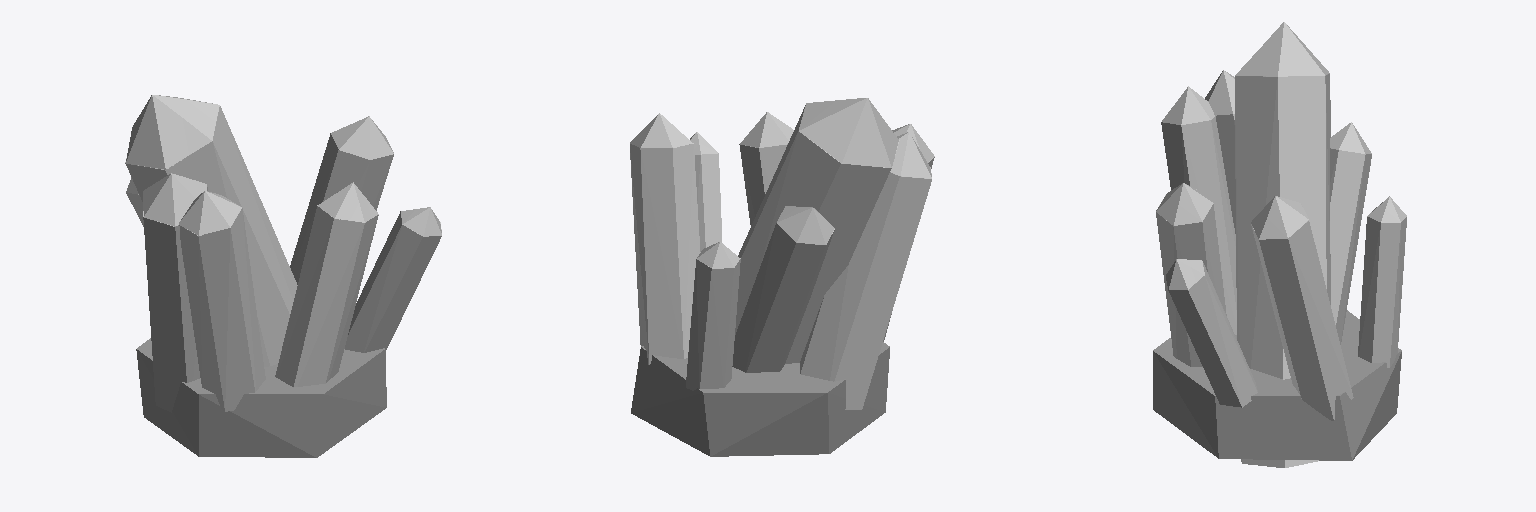
File: solis_crystals1.obj
The picture shows the model from 3 angles: view 1: azimuth 30°, elevation 25°; view 2: azimuth 150°, elevation 25°; view 3: azimuth 270°, elevation 25°; orthographic projection.
Parts seen in each view (by area): view 1: Cylinder.029_Cylinder.030, Cylinder.002_Cylinder.005, Cylinder.027_Cylinder.028, Cylinder.006_Cylinder.000, Cylinder.003_Cylinder.006, Cylinder.005_Cylinder.008, Cone.007_Cone.000, Cylinder.001_Cylinder.004, Cone.004_Cone.006, Cone.003_Cone.005, Cone.002_Cone.004, Cone.001 (+1 smaller); view 2: Cylinder.029_Cylinder.030, Cylinder.003_Cylinder.006, Cylinder.001_Cylinder.004, Cylinder.006_Cylinder.000, Cylinder.004_Cylinder.007, Cylinder.000_Cylinder.003, Cone.007_Cone.000, Cylinder.005_Cylinder.008, Cylinder.027_Cylinder.028, Cone.005_Cone.007, Cone.002_Cone.004, Cone.004_Cone.006 (+2 smaller); view 3: Cylinder.006_Cylinder.000, Cylinder.029_Cylinder.030, Cylinder.001_Cylinder.004, Cylinder.002_Cylinder.005, Cylinder.000_Cylinder.003, Cylinder.005_Cylinder.008, Cylinder.004_Cylinder.007, Cylinder.027_Cylinder.028, Cone.007_Cone.000, Cone.002_Cone.004, Cone.001, Cylinder.003_Cylinder.006 (+5 smaller).
Part boxes in pixels (x1,y1,x2,y2): Cylinder.029_Cylinder.030: (136, 338, 386, 457); Cylinder.002_Cylinder.005: (179, 208, 265, 411); Cylinder.027_Cylinder.028: (275, 205, 378, 387); Cylinder.006_Cylinder.000: (125, 106, 297, 366); Cylinder.003_Cylinder.006: (143, 187, 207, 412); Cylinder.005_Cylinder.008: (345, 211, 441, 352); Cone.007_Cone.000: (126, 95, 219, 169); Cylinder.001_Cylinder.004: (290, 133, 393, 284); Cone.004_Cone.006: (143, 173, 206, 226); Cone.003_Cone.005: (179, 191, 241, 235); Cone.002_Cone.004: (331, 116, 393, 159); Cone.001: (318, 182, 378, 222); Cylinder.029_Cylinder.030: (631, 342, 889, 456); Cylinder.003_Cylinder.006: (800, 167, 931, 409); Cylinder.001_Cylinder.004: (630, 144, 700, 364); Cylinder.006_Cylinder.000: (735, 105, 899, 363); Cylinder.004_Cylinder.007: (732, 223, 834, 372); Cylinder.000_Cylinder.003: (686, 259, 740, 390); Cone.007_Cone.000: (799, 98, 898, 167); Cylinder.005_Cylinder.008: (695, 153, 721, 251); Cylinder.027_Cylinder.028: (739, 144, 787, 225); Cone.005_Cone.007: (777, 206, 834, 244); Cone.002_Cone.004: (630, 113, 693, 147); Cone.004_Cone.006: (890, 132, 931, 178); Cylinder.006_Cylinder.000: (1235, 73, 1330, 467); Cylinder.029_Cylinder.030: (1153, 310, 1401, 460); Cylinder.001_Cylinder.004: (1251, 204, 1353, 420); Cylinder.002_Cylinder.005: (1161, 116, 1236, 334); Cylinder.000_Cylinder.003: (1358, 217, 1406, 367); Cylinder.005_Cylinder.008: (1168, 263, 1257, 407); Cylinder.004_Cylinder.007: (1330, 148, 1371, 344); Cylinder.027_Cylinder.028: (1156, 189, 1226, 366); Cone.007_Cone.000: (1235, 22, 1328, 76); Cone.002_Cone.004: (1251, 196, 1308, 239); Cone.001: (1156, 183, 1212, 225); Cylinder.003_Cylinder.006: (1216, 114, 1235, 233).
Size of the model in its own units: 0.7698 by 0.9814 by 0.6125.